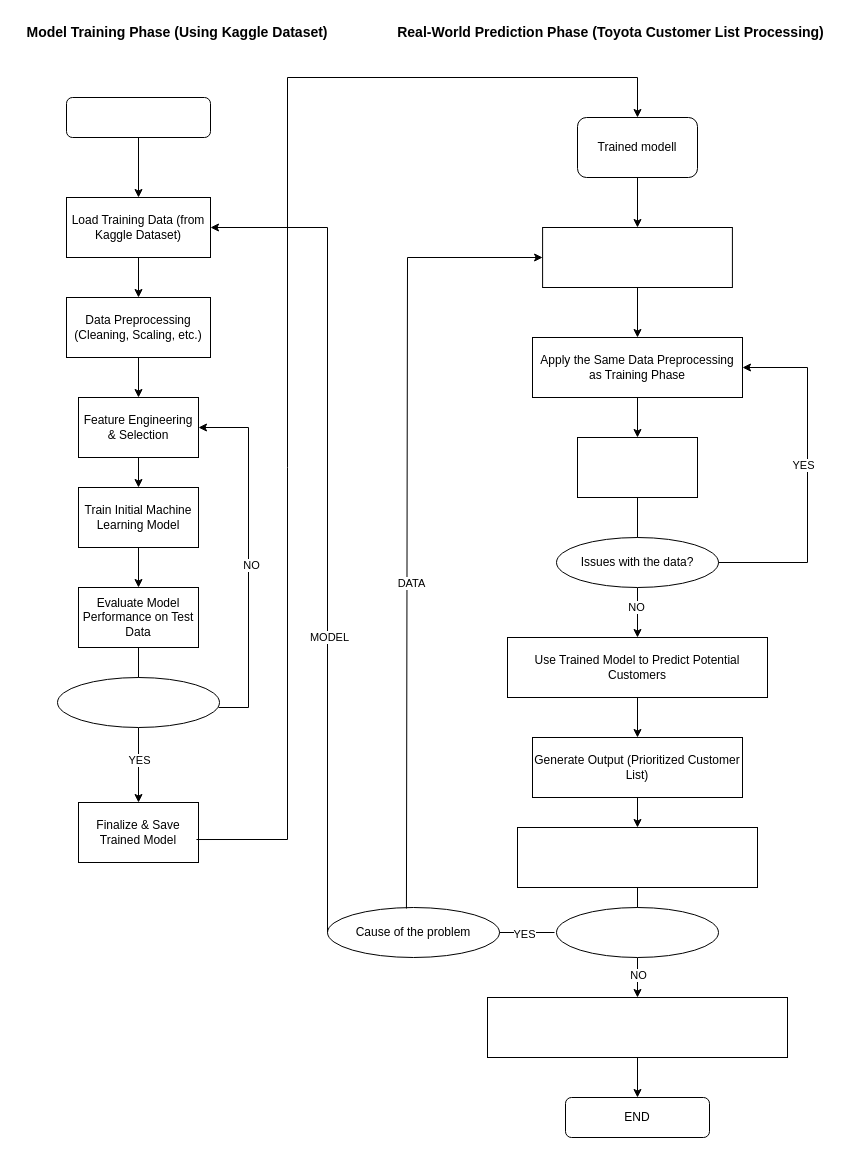
Some shapes in this 846 by 1155 pixel diagram are drawn without their labels. The shapes that lost their labels are listed below. From the top down, each one's centre as x and y in pixels, then its label:
At (x=138, y=117): "Start".
At (x=637, y=257): "Load Weekly Toyota Customer Data (CSV File Input)".
At (x=637, y=467): "Check for Data Issues".
At (x=138, y=702): "Model performs satisfactory?".
At (x=637, y=857): "Review & Validate Predictions".
At (x=637, y=932): "Issues with the predictions?".
At (x=637, y=1027): "Deploy & Automate the Process".
